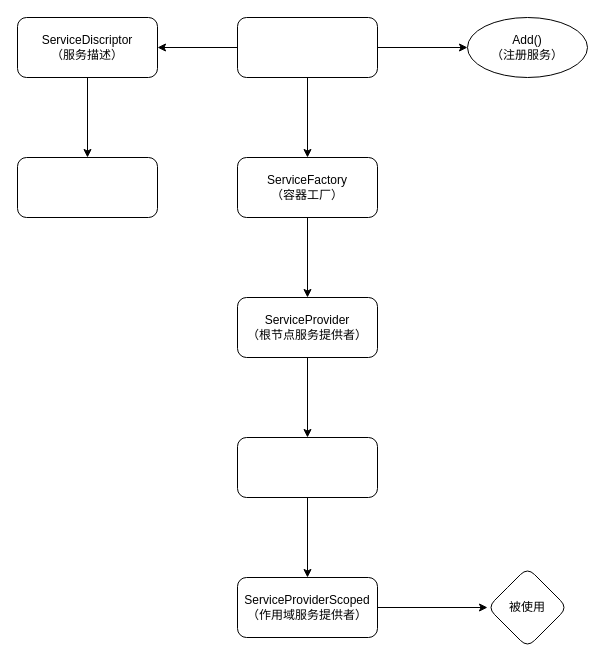
This 605x665 diagram has some shape labels left out. The centre of each missing label's shape, as x and y in pixels:
ServiceCollection （容器）: point 307,47
ServiceLife （服务生命周期）: point 87,187
ServiceScopedFactory （容器工厂）: point 307,467
